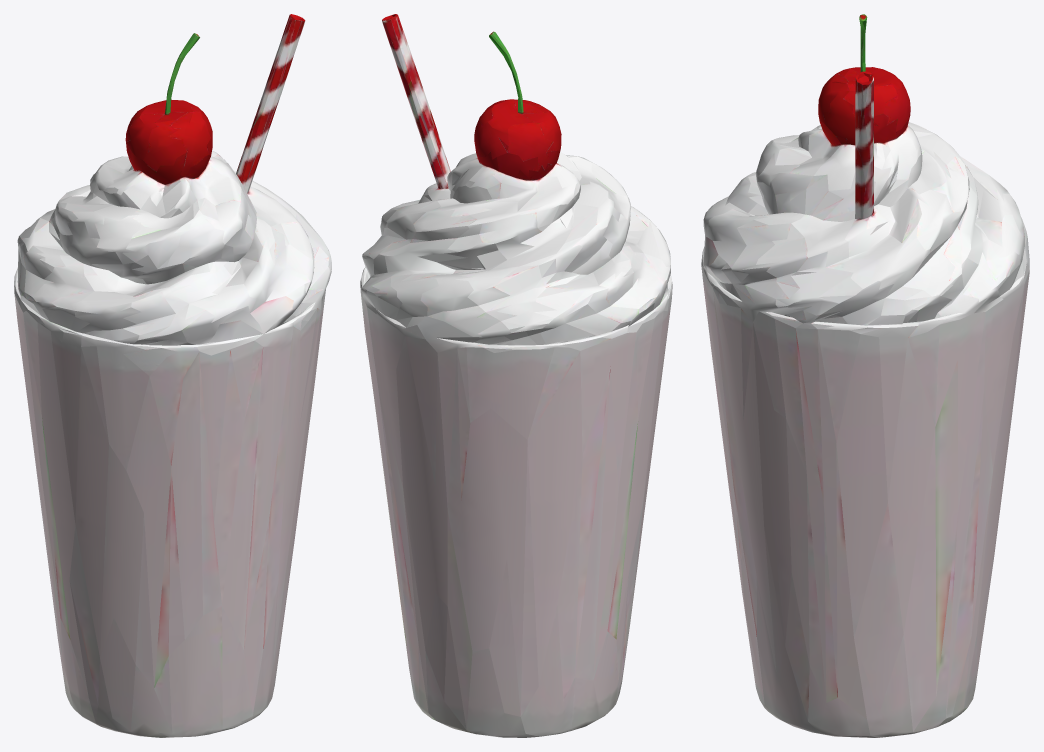
Rendered from milkshake.glb.
3 renders of one model, left to right at view 1: azimuth 30°, elevation 25°; view 2: azimuth 150°, elevation 25°; view 3: azimuth 270°, elevation 25°, orthographic. The views are drawn at different scales.
Parts seen in each view (by area): view 1: Mesh_0; view 2: Mesh_0; view 3: Mesh_0.
Boxes of the visible parts, <box> form: Mesh_0: <box>14,14,331,737</box>; Mesh_0: <box>360,14,672,737</box>; Mesh_0: <box>701,14,1029,737</box>.
Size of the model in its own units: 0.0867 by 0.2 by 0.0859.
Materials: 1 (1 with a texture image).
